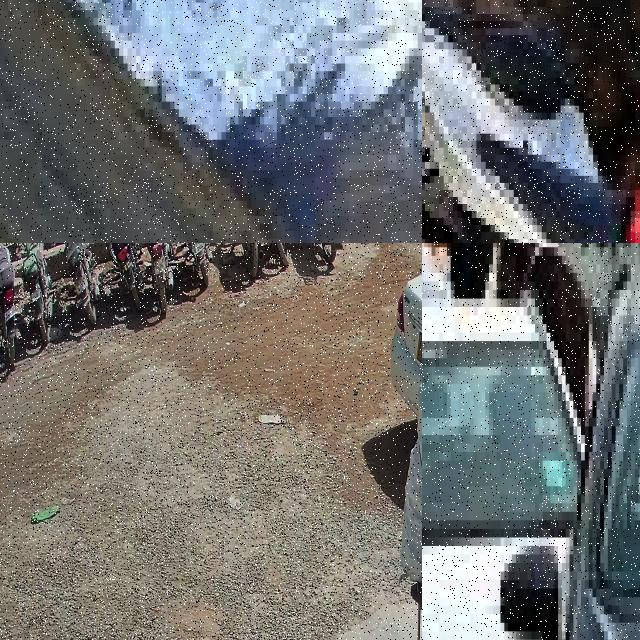bike: (422, 0, 640, 243), (14, 243, 52, 343), (56, 243, 99, 326), (101, 243, 143, 311), (0, 243, 21, 365), (141, 243, 173, 314), (167, 243, 212, 286), (219, 243, 264, 277)
car: (422, 243, 623, 640), (523, 243, 640, 640)
